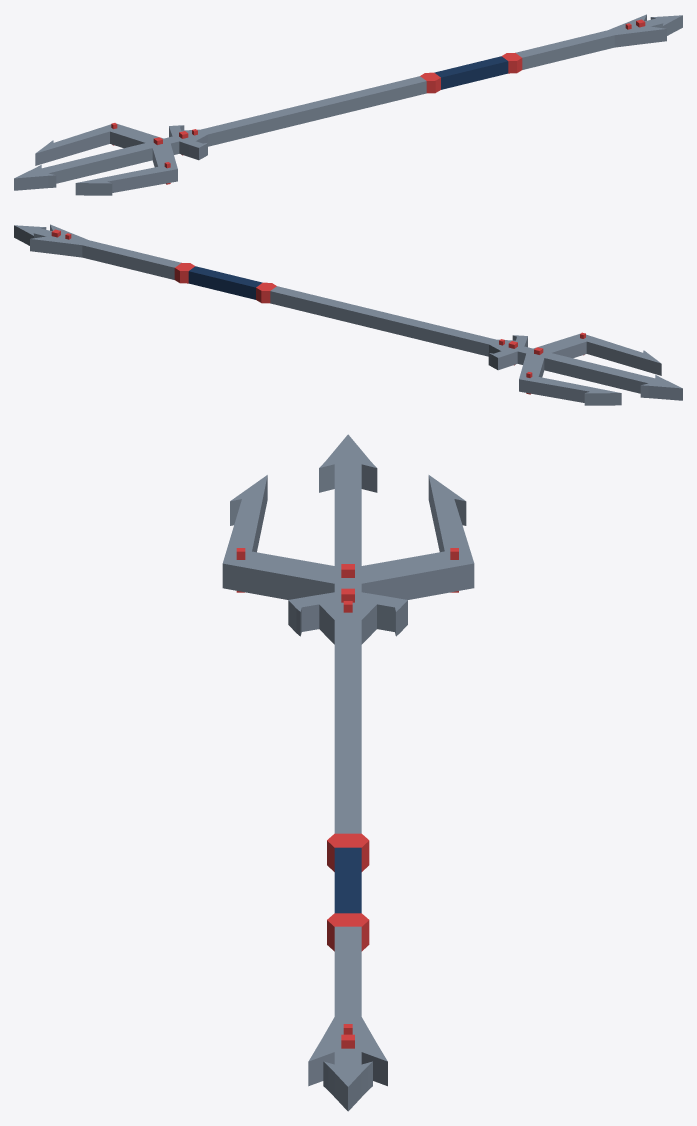
The model's file is WeaponTrident.fbx.
3 renders of one model, top to bottom at view 1: azimuth 30°, elevation 25°; view 2: azimuth 150°, elevation 25°; view 3: azimuth 270°, elevation 25°, orthographic. The views are drawn at different scales.
Parts seen in each view (by area): view 1: Weapon_Trident; view 2: Weapon_Trident; view 3: Weapon_Trident.
Boxes of the visible parts, bbox=[...] form: Weapon_Trident: bbox=[14, 14, 682, 195]; Weapon_Trident: bbox=[14, 224, 682, 405]; Weapon_Trident: bbox=[222, 434, 474, 1111].
Bounding box in the file's own units: 26.96 × 0.7938 × 4.39.
